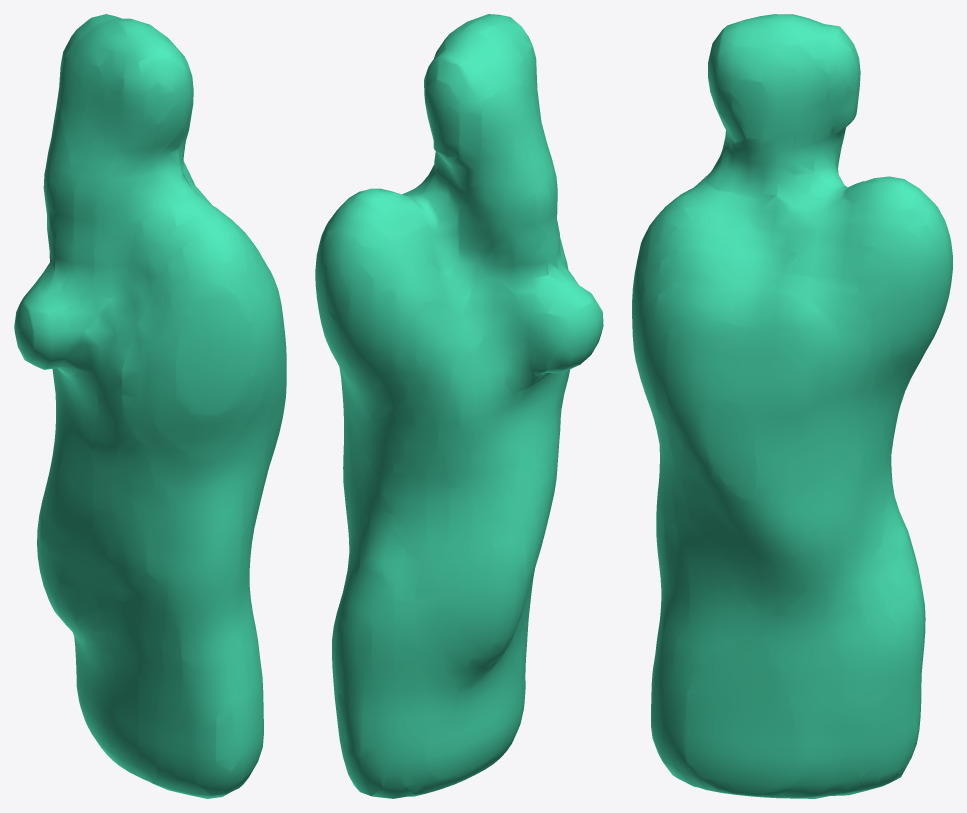
The picture shows the model from 3 angles, left to right: view 1: azimuth 30°, elevation 25°; view 2: azimuth 150°, elevation 25°; view 3: azimuth 270°, elevation 25°; orthographic projection.
Visible parts, largest first — view 1: Liquid_Domain; view 2: Liquid_Domain; view 3: Liquid_Domain.
Boxes of the visible parts, x1,y1,x2,y2 form: Liquid_Domain: (14,14,286,798); Liquid_Domain: (315,14,603,798); Liquid_Domain: (632,14,952,798).
Size of the model in its own units: 2.46 by 7.32 by 2.86.
